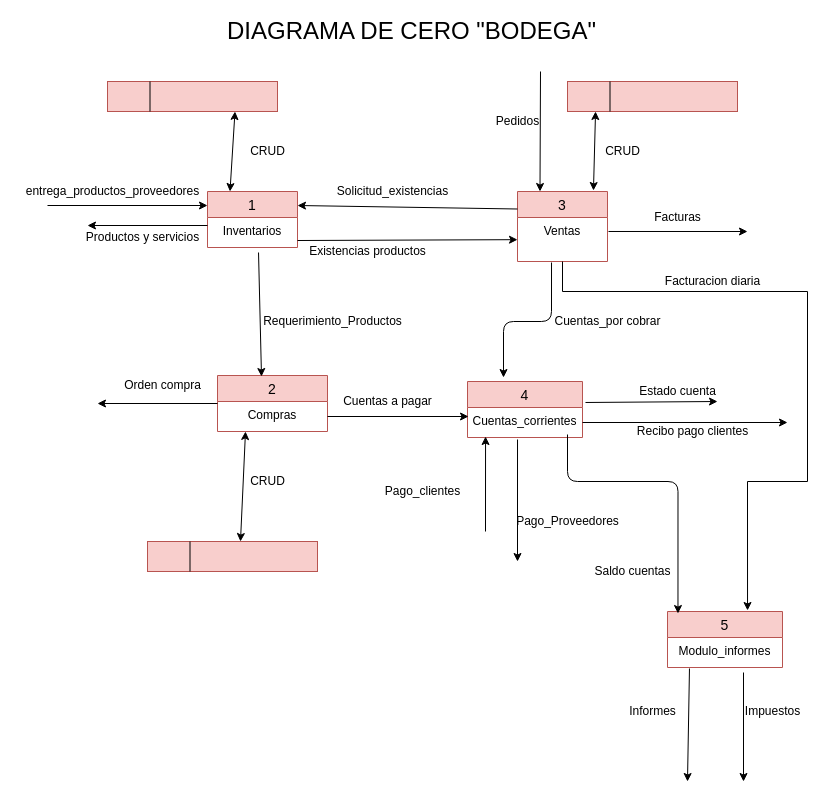
This 833x807 diagram has some shape labels left out. The centre of each missing label's shape, as x and y in pixels:
"Tbl_clientes" belongs at (652,96).
"Tbl_productos" belongs at (192,96).
"Tbl_proveedores" belongs at (232,556).
